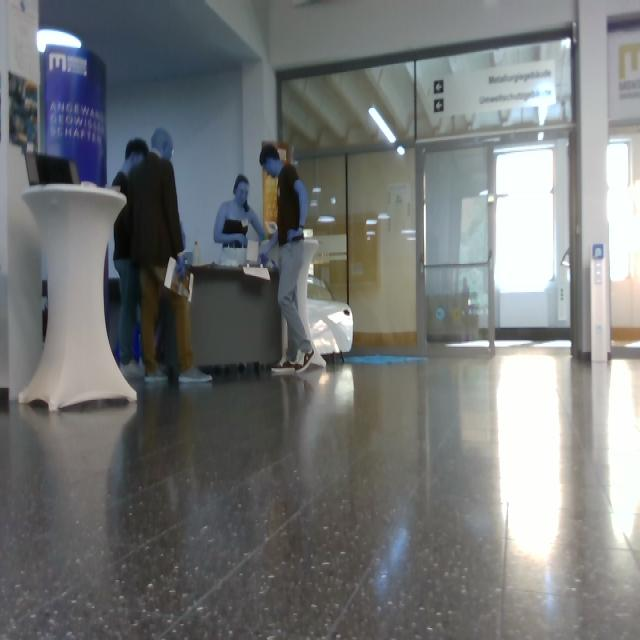desk: (191, 266, 283, 366)
door: (277, 29, 574, 357)
light bulb: (38, 29, 82, 53), (369, 106, 396, 144), (398, 146, 405, 156)
person: (130, 130, 211, 382), (261, 144, 323, 372), (113, 140, 149, 386), (214, 174, 266, 265)
pillar: (1, 1, 42, 400), (570, 1, 611, 362)
table: (20, 184, 137, 412)
tiled floor: (1, 352, 640, 640)
